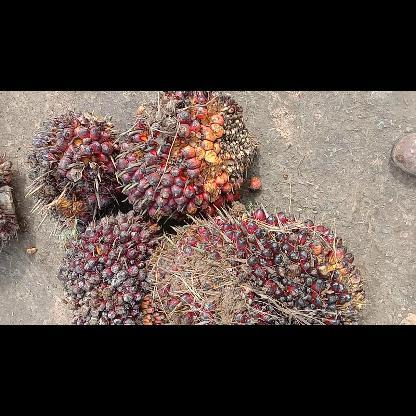Kurang masak: (144, 198, 376, 324), (56, 207, 168, 324)
TBS masak: (116, 92, 260, 222), (22, 108, 122, 232)
